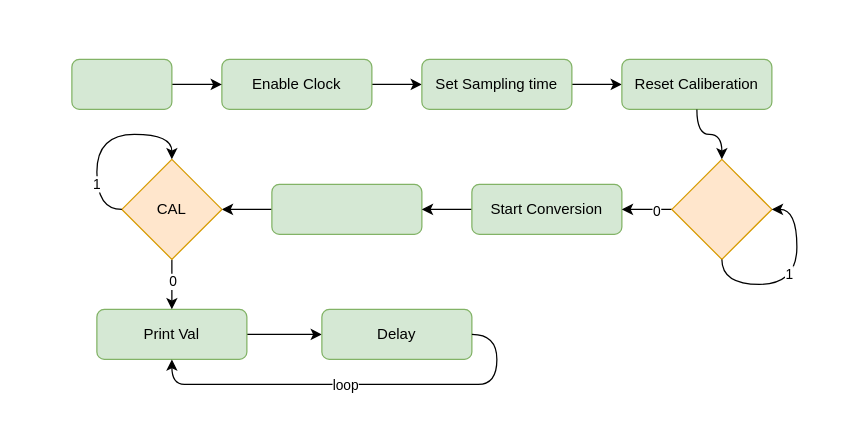
Some shapes in this 843 by 443 pixel diagram are drawn without their labels. The box of each missing label's shape, as (x1, y1, x2, y2) in pixels:
RST_CAL: (671, 158, 772, 259)
Set PreDiv: (71, 58, 172, 109)
Start Caliberation: (271, 183, 422, 234)
